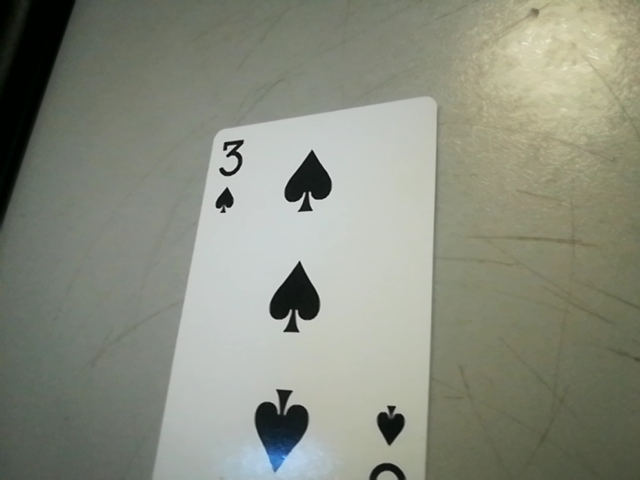ht 3: (361, 397, 420, 480)
